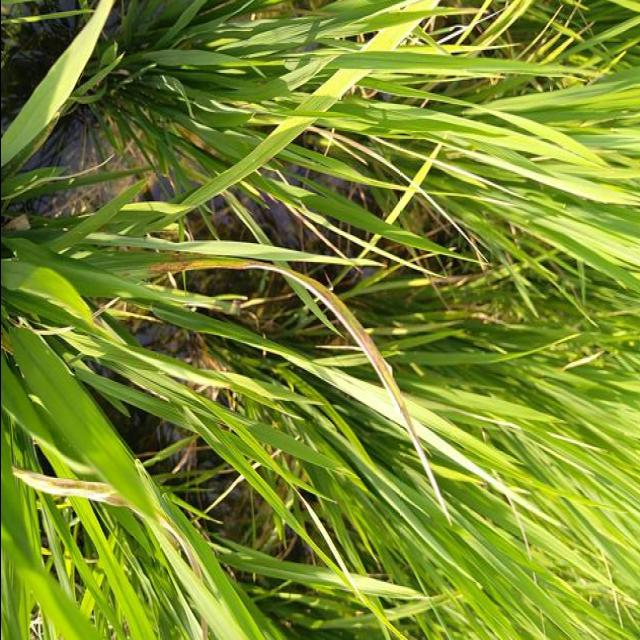Leaf Blight: (150, 257, 449, 518), (9, 466, 127, 509), (154, 512, 201, 578)
